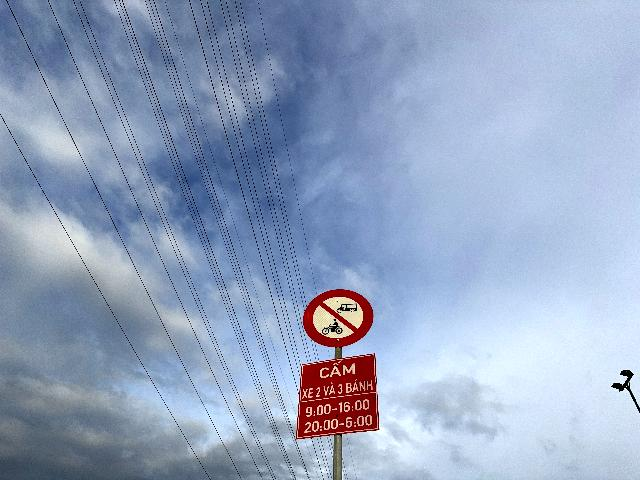cam-xe-2-banh-3-banh: (303, 289, 374, 348)
